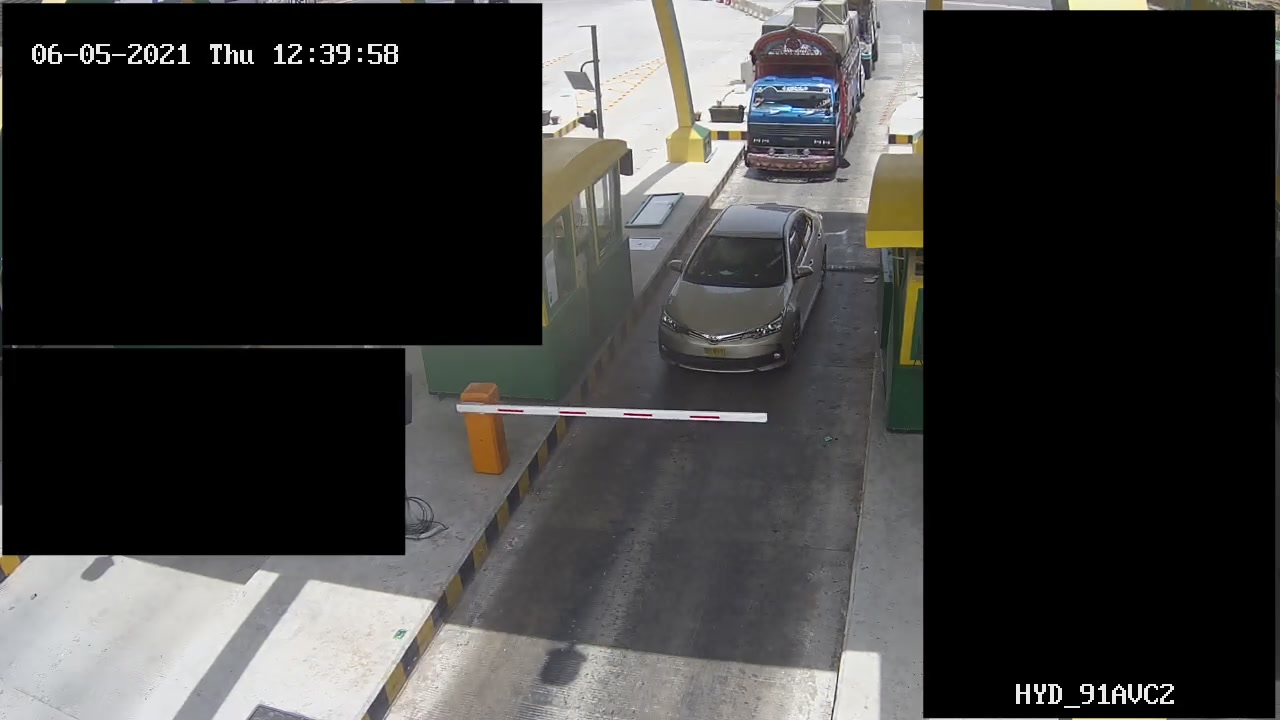F1: (656, 192, 833, 376)
F5: (744, 2, 866, 179)
